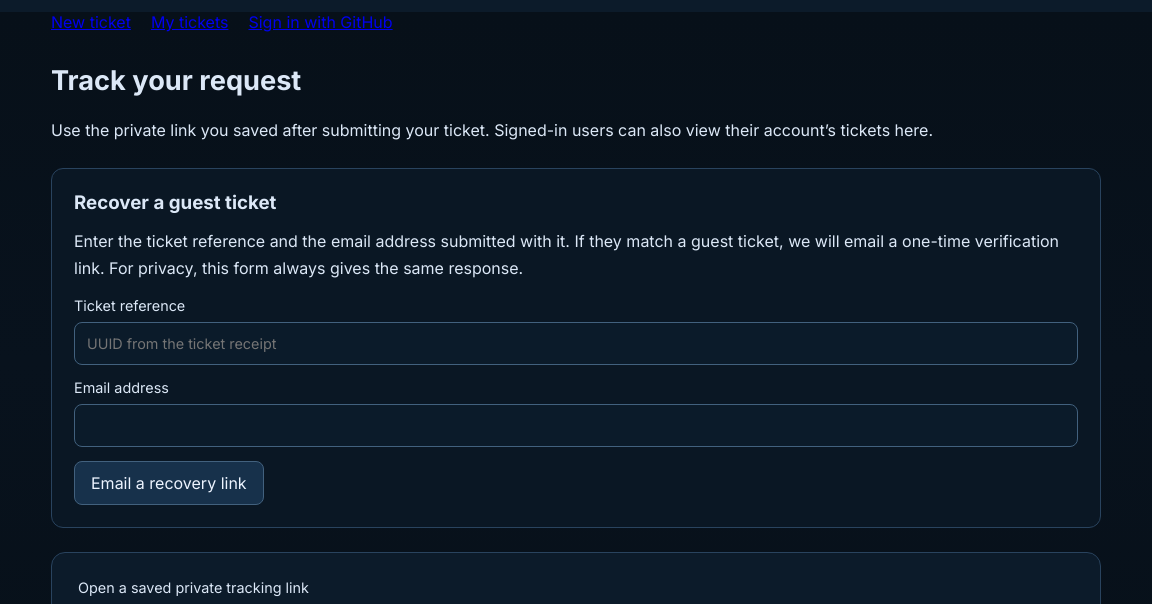
guest recovery request gets the same non-enumerating confirmation regardless of the supplied reference
Check: the heading "Recover a guest ticket" is shown, box [74,191,276,214]
Type "11111111-1111-1111-1111-111111111111" into the field labelled "Ticket reference". click: [576, 343]
box: [74,322,1078,365]
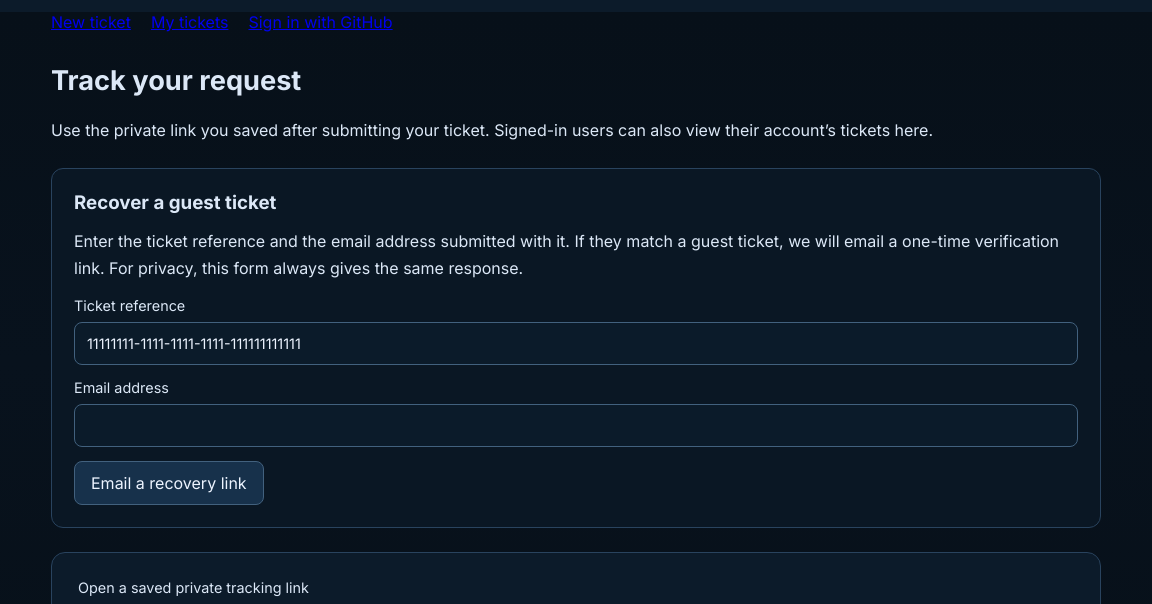
Type "a@example.com" into the field labelled "Email address". click: [576, 425]
box: [74,404,1078,447]
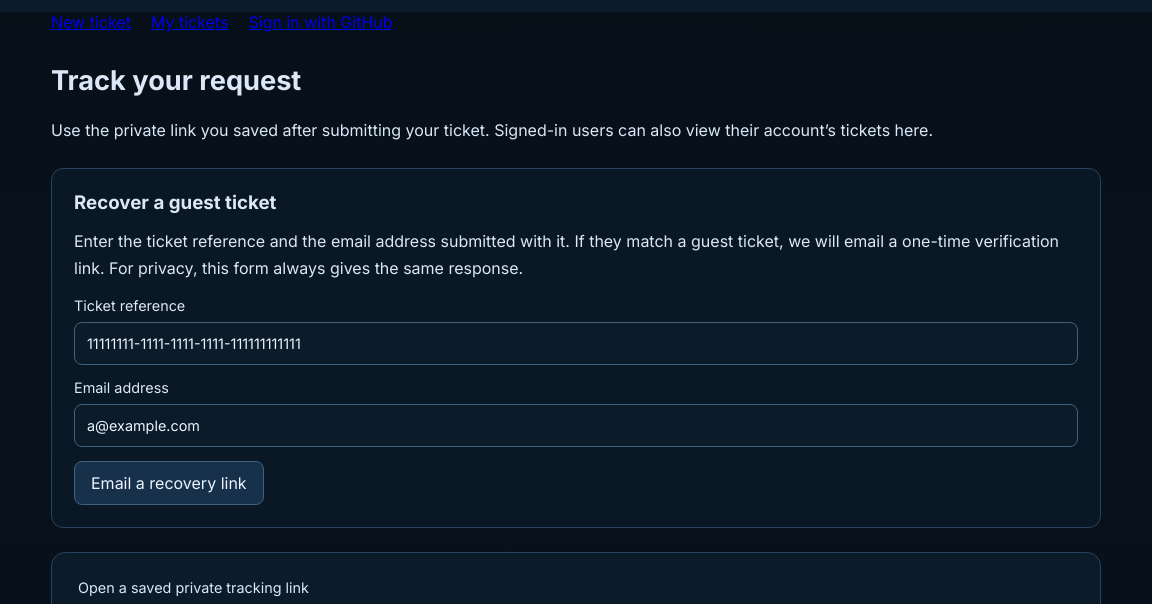
Click the button "Email a recovery link". click: [169, 483]
box: [74,461,264,505]
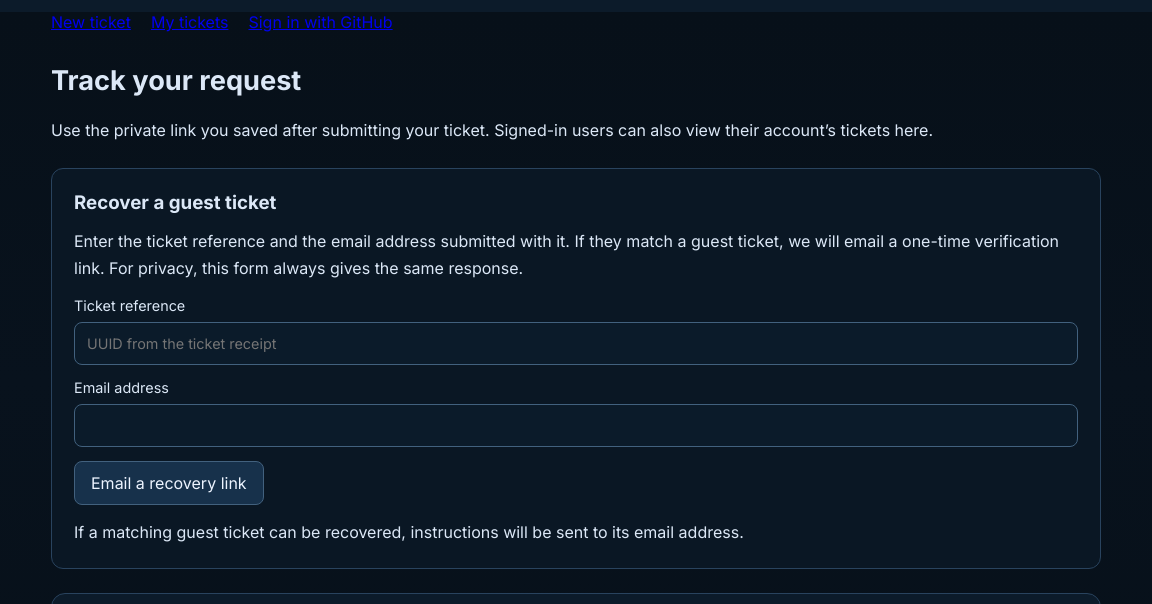
Check: the message shows "If a matching guest ticket can be recovered", box [74,522,744,542]
